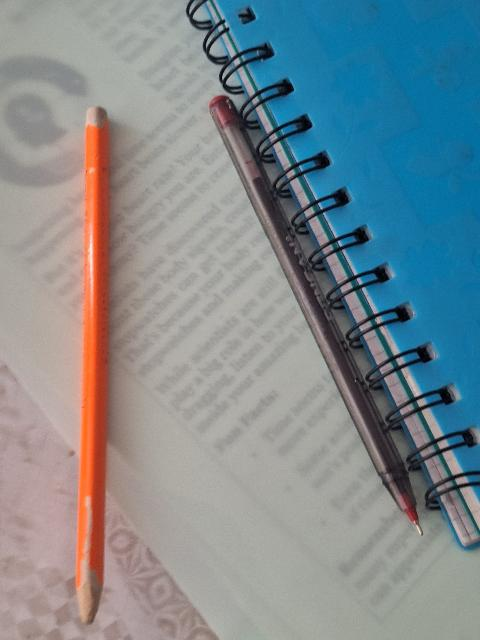writing_tool: (212, 97, 433, 538), (77, 107, 115, 626)
